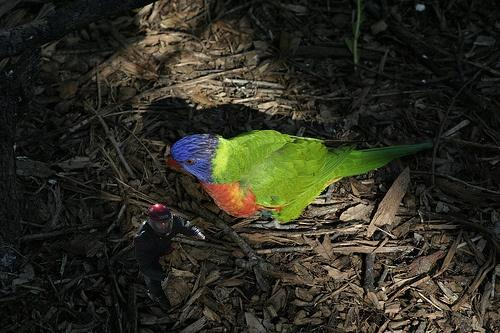tampered: (134, 204, 205, 310)
